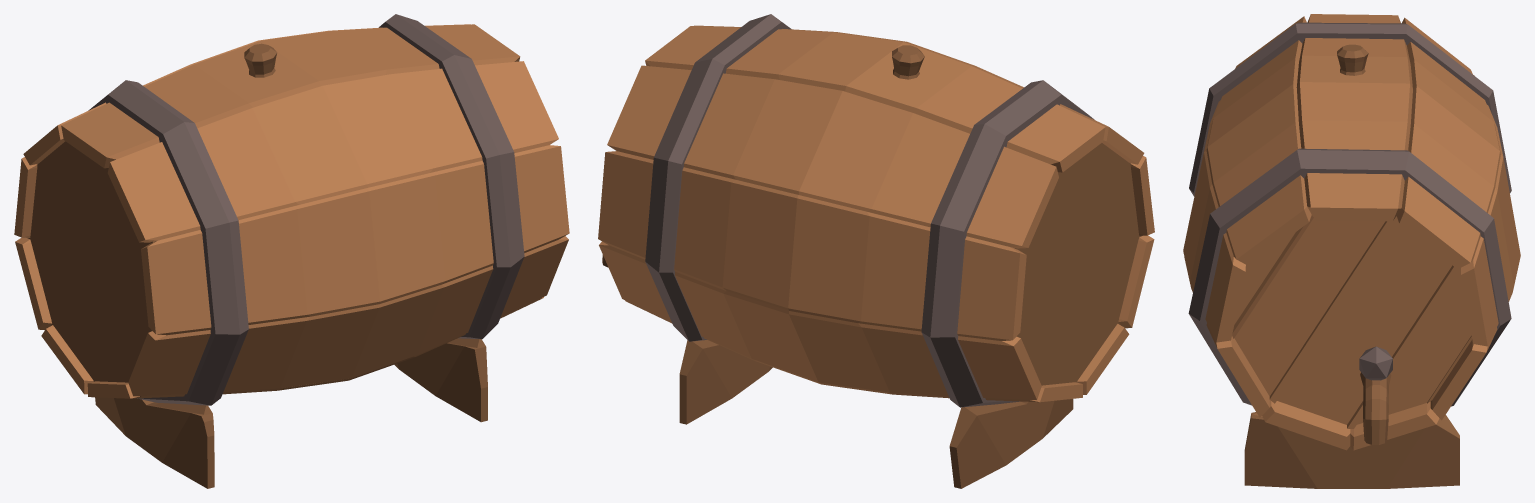
File: Barrel_Wine.fbx
3 views of the same model, side by side, from view 1: azimuth 30°, elevation 25°; view 2: azimuth 150°, elevation 25°; view 3: azimuth 270°, elevation 25° (orthographic). The views are drawn at different scales.
Parts seen in each view (by area): view 1: Cylinder.083, Cylinder.087, Cylinder.086, Cylinder.085, Cube.349, Cube.346, Cylinder.084; view 2: Cylinder.083, Cylinder.087, Cylinder.086, Cylinder.085, Cube.349, Cube.346, Cylinder.084; view 3: Cylinder.083, Cube.346, Cylinder.085, Cylinder.086, BezierCurve.001, Icosphere.015, Cylinder.084.
Boxes of the visible parts, x1,y1,x2,y2 form: Cylinder.083: (14,24,569,398); Cylinder.087: (27,141,154,397); Cylinder.086: (88,80,248,405); Cylinder.085: (379,14,524,339); Cube.349: (95,397,214,488); Cube.346: (394,338,487,422); Cylinder.084: (244,43,277,77); Cylinder.083: (598,25,1154,402); Cylinder.087: (1014,143,1142,385); Cylinder.086: (921,80,1094,407); Cylinder.085: (645,14,791,341); Cube.349: (949,399,1073,488); Cube.346: (679,340,772,424); Cylinder.084: (892,45,924,79); Cylinder.083: (1183,14,1520,450); Cube.346: (1244,412,1459,488); Cylinder.085: (1188,148,1511,406); Cylinder.086: (1189,22,1511,196); BezierCurve.001: (1360,372,1391,444); Icosphere.015: (1359,346,1392,380); Cylinder.084: (1337,44,1368,75).
Size of the model in its own units: 373 by 285 by 244.
